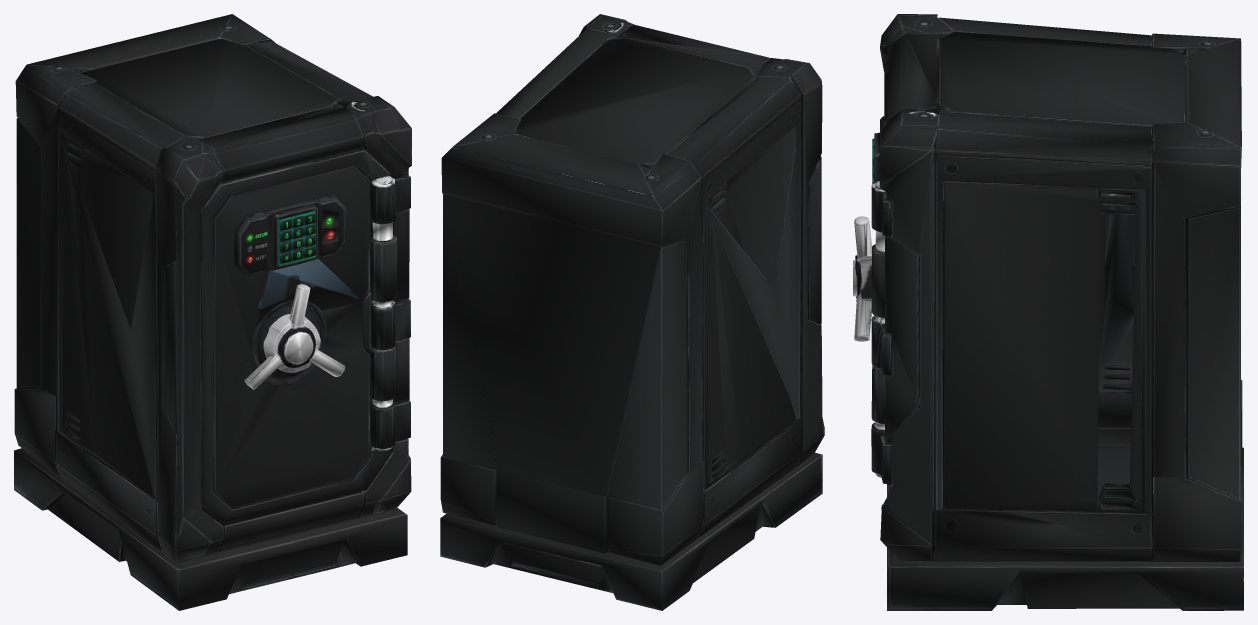
The model's file is safe_4.glb.
3 views of the same model, side by side, from view 1: azimuth 30°, elevation 25°; view 2: azimuth 150°, elevation 25°; view 3: azimuth 270°, elevation 25° (orthographic). The views are drawn at different scales.
Bounding box in the file's own units: 0.521 × 0.9521 × 0.7002.
1 material, 1 textured.
